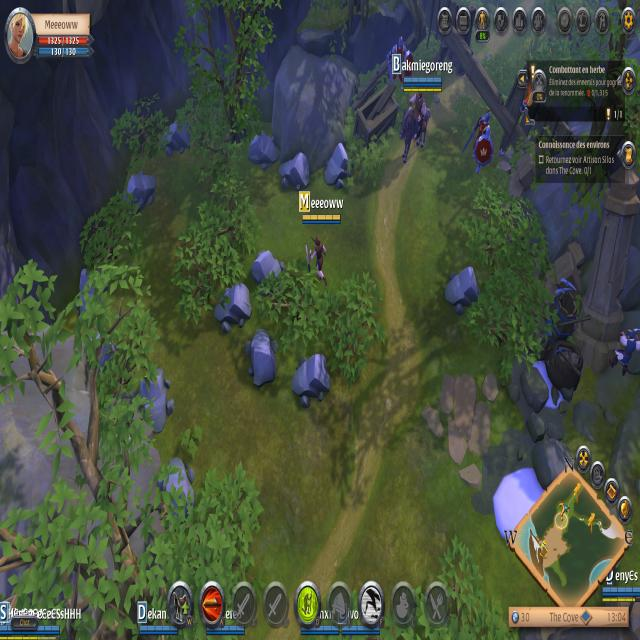stone: (157, 453, 197, 529), (290, 344, 332, 411), (136, 367, 174, 435), (442, 257, 482, 320), (211, 275, 252, 335), (244, 324, 280, 390), (75, 258, 107, 330), (118, 166, 158, 214), (321, 140, 356, 191), (250, 246, 285, 296), (156, 110, 194, 156), (246, 123, 280, 172), (277, 146, 310, 194)
